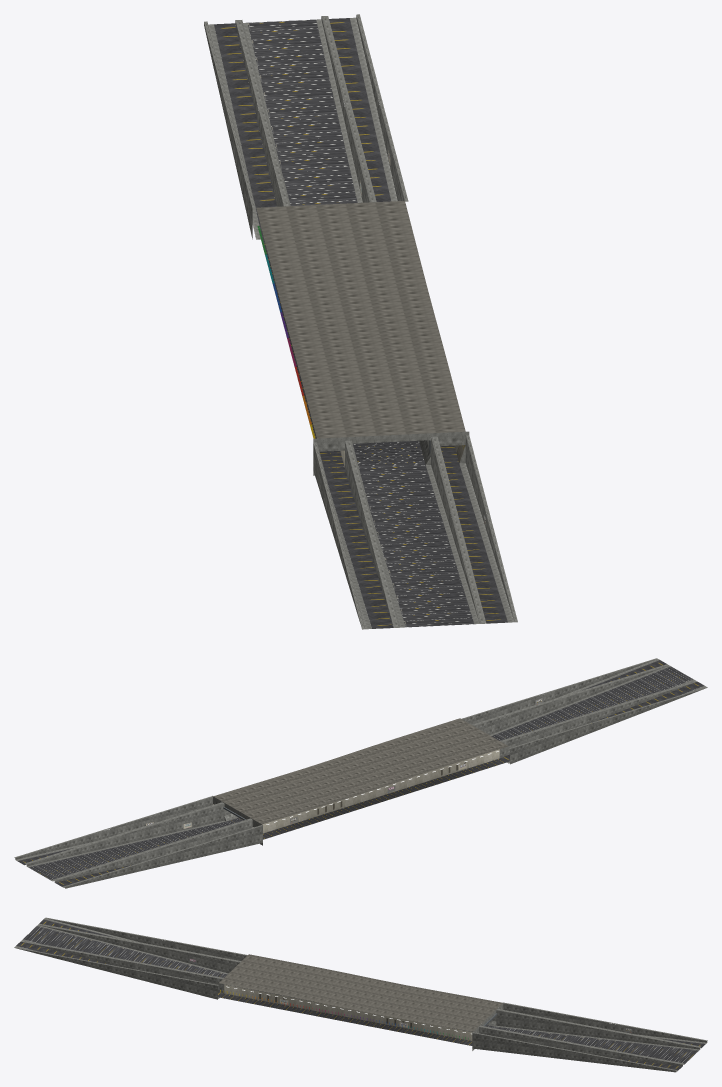
File: lu_unterfuehrung.glb
3 views of the same model, one above another, from view 1: azimuth 30°, elevation 25°; view 2: azimuth 150°, elevation 25°; view 3: azimuth 270°, elevation 25° (orthographic). The views are drawn at different scales.
Parts seen in each view (by area): view 1: lu_unterfuehrung; view 2: lu_unterfuehrung; view 3: lu_unterfuehrung.
Part boxes in pixels (box(x1,y1,x2,y2)): lu_unterfuehrung: box(204, 14, 517, 629); lu_unterfuehrung: box(14, 658, 707, 888); lu_unterfuehrung: box(14, 917, 707, 1072).
Bounding box in the file's own units: 122 × 7.49 × 234.
3 materials, 3 textured.
